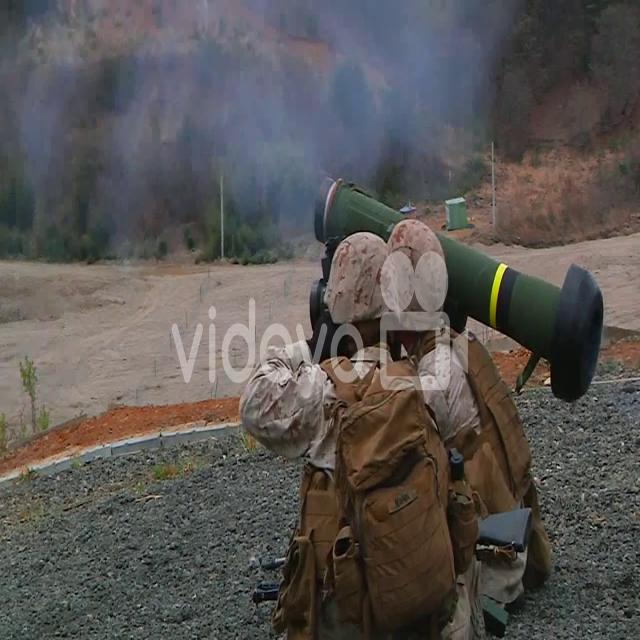bazooka: (312, 169, 613, 412)
